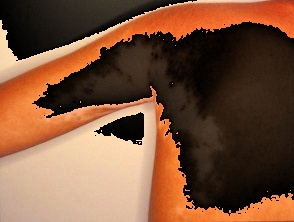vitiligo: (27, 0, 269, 212)
